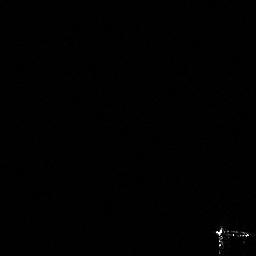ship: (212, 223, 255, 256)
